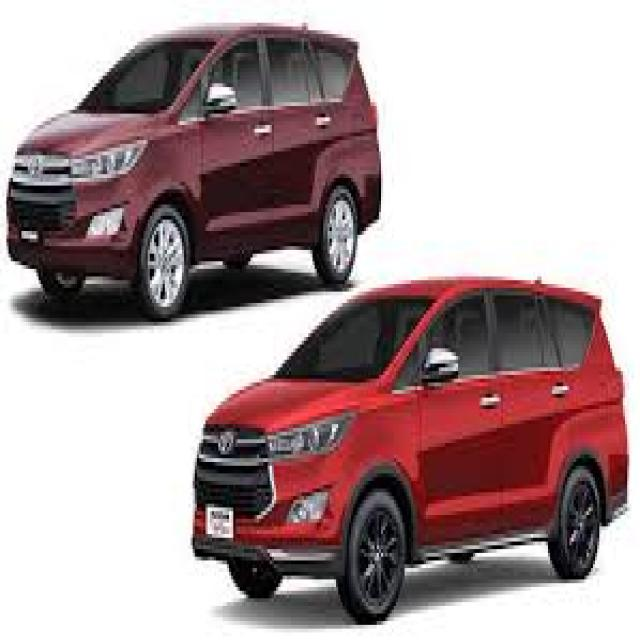light_vehicle: (191, 276, 630, 626), (6, 22, 382, 320)
